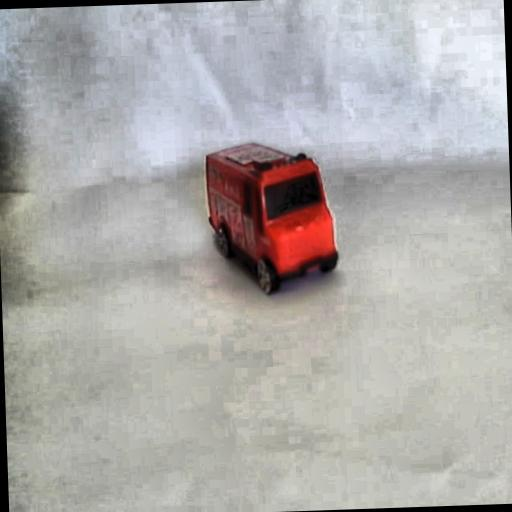fire_truck: (200, 136, 340, 300)
